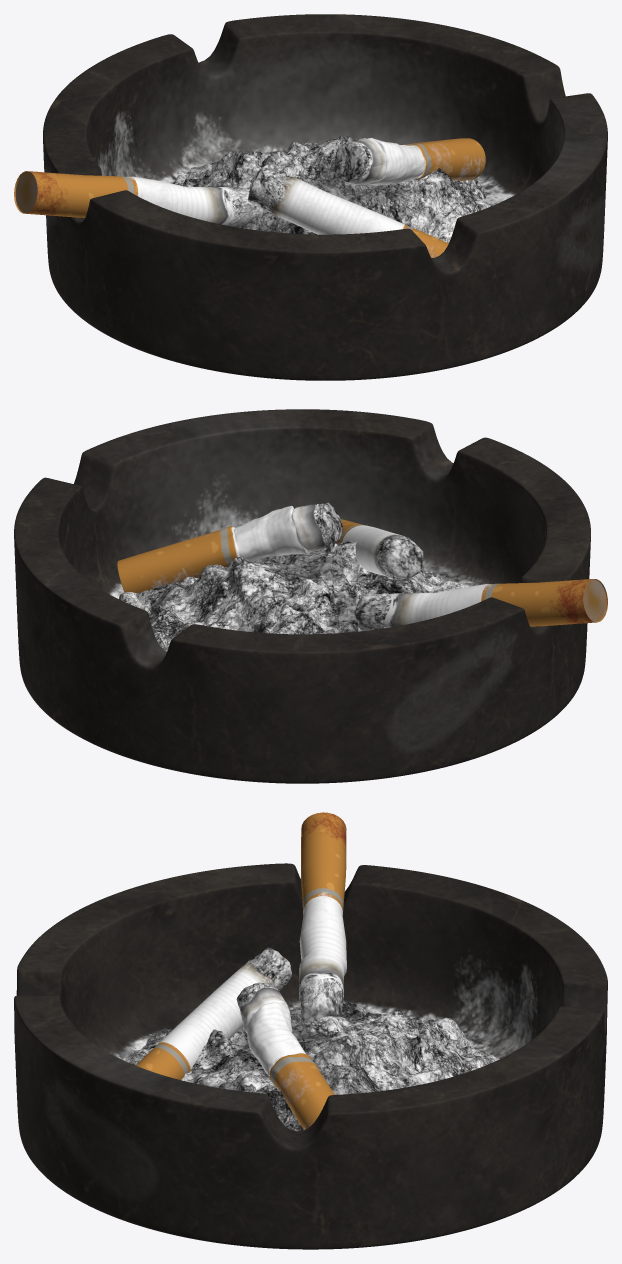
Rendered from ashtray_used.obj.
The picture shows the model from 3 angles, top to bottom: view 1: azimuth 30°, elevation 25°; view 2: azimuth 150°, elevation 25°; view 3: azimuth 270°, elevation 25°; orthographic projection. The views are drawn at different scales.
Parts seen in each view (by area): view 1: ashtray_1, ashes_1, cigarette_5, cigarette_3, cigarette_4; view 2: ashtray_1, ashes_1, cigarette_3, cigarette_5, cigarette_4; view 3: ashtray_1, ashes_1, cigarette_5, cigarette_3, cigarette_4.
Part boxes in pixels (bbox=[...]): ashtray_1: bbox=[43, 14, 607, 380]; ashes_1: bbox=[173, 135, 492, 243]; cigarette_5: bbox=[14, 171, 263, 227]; cigarette_3: bbox=[334, 138, 485, 185]; cigarette_4: bbox=[248, 164, 448, 257]; ashtray_1: bbox=[14, 409, 590, 783]; ashes_1: bbox=[119, 541, 468, 651]; cigarette_3: bbox=[117, 502, 342, 592]; cigarette_5: bbox=[355, 579, 607, 630]; cigarette_4: bbox=[336, 519, 424, 578]; ashtray_1: bbox=[14, 863, 607, 1249]; ashes_1: bbox=[122, 1001, 499, 1131]; cigarette_5: bbox=[299, 812, 346, 1022]; cigarette_3: bbox=[236, 982, 334, 1129]; cigarette_4: bbox=[135, 947, 292, 1079].
Bounding box in the file's own units: 11.28 × 3.16 × 10.14.
2 materials, 2 textured.
